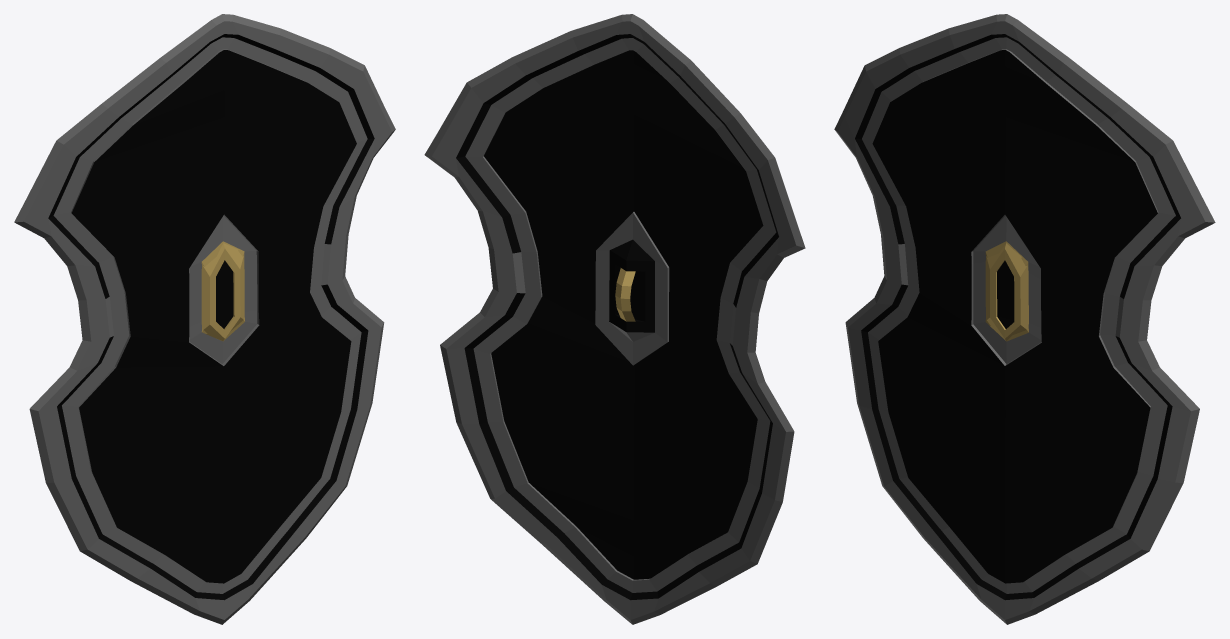
Rendered from shield1.fbx.
The picture shows the model from 3 angles, left to right: view 1: azimuth 30°, elevation 25°; view 2: azimuth 150°, elevation 25°; view 3: azimuth 330°, elevation 25°; orthographic projection.
Parts seen in each view (by area): view 1: Cube; view 2: Cube; view 3: Cube.
Boxes of the visible parts, box(x1,y1,x2,y2) form: Cube: box(14, 14, 395, 624); Cube: box(424, 14, 805, 624); Cube: box(834, 14, 1215, 624).
Size of the model in its own units: 314 by 480 by 30.19.
